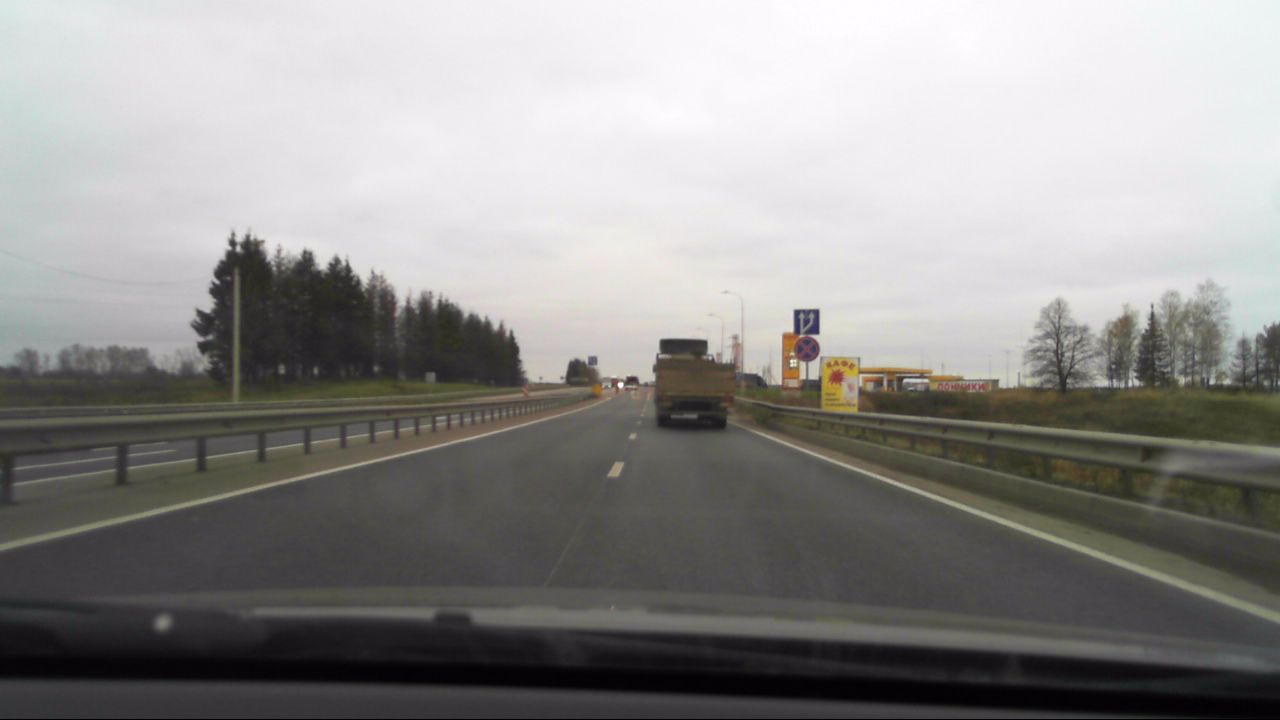No Parking: (792, 335, 821, 363)
